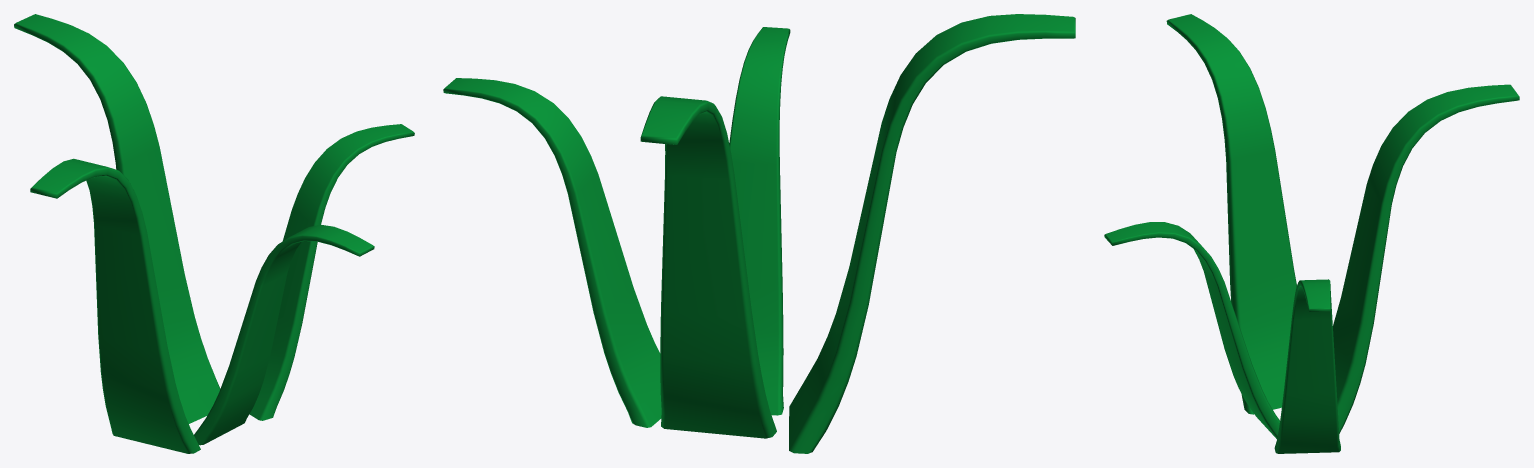
File: Town_3_Grass_2.glb
3 renders of one model, left to right at view 1: azimuth 30°, elevation 25°; view 2: azimuth 150°, elevation 25°; view 3: azimuth 270°, elevation 25°, orthographic. The views are drawn at different scales.
Parts seen in each view (by area): view 1: Town_3_Grass_2; view 2: Town_3_Grass_2; view 3: Town_3_Grass_2.
Part boxes in pixels (x1=…): Town_3_Grass_2: x1=14, y1=14, x2=414, y2=453; Town_3_Grass_2: x1=443, y1=14, x2=1075, y2=453; Town_3_Grass_2: x1=1104, y1=14, x2=1519, y2=453.
Size of the model in its own units: 0.4359 by 0.3119 by 0.3779.
1 material, 1 textured.
